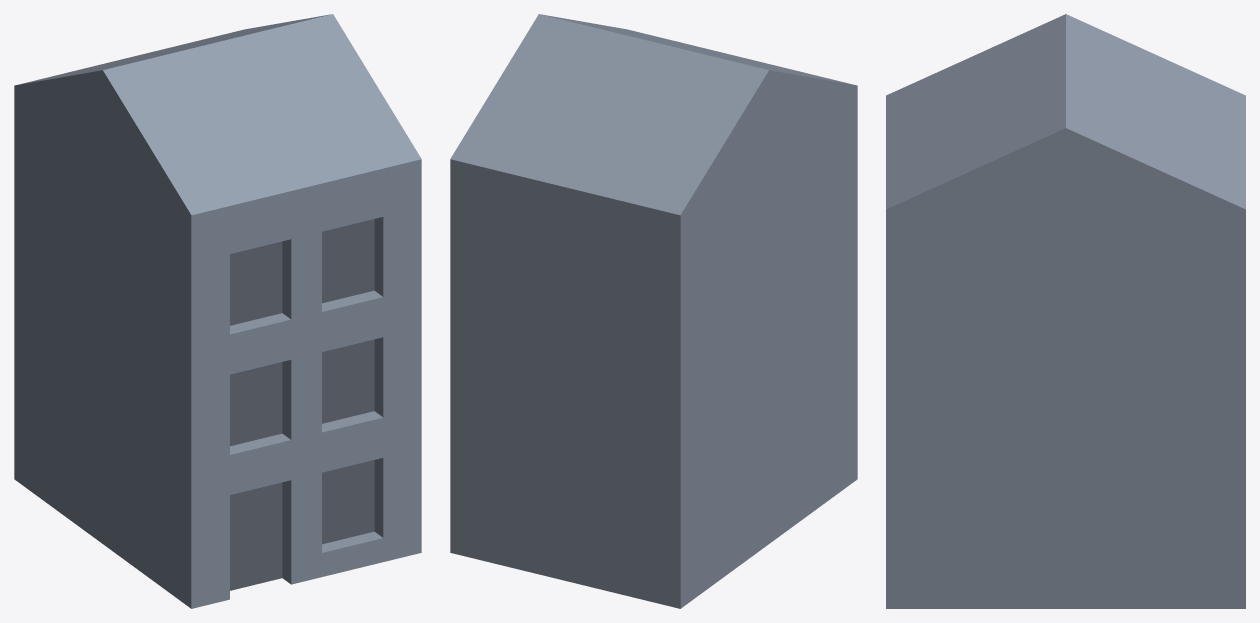
The model's file is binakapanacak1.gltf.
3 views of the same model, side by side, from view 1: azimuth 30°, elevation 25°; view 2: azimuth 150°, elevation 25°; view 3: azimuth 270°, elevation 25° (orthographic).
Visible parts, largest first — view 1: Building_021.010, Building_021.014, Building_021.015; view 2: Building_021.010; view 3: Building_021.010.
Boxes of the visible parts, <box> form: Building_021.010: <box>14,14,421,608</box>; Building_021.014: <box>230,219,374,544</box>; Building_021.015: <box>230,482,282,590</box>; Building_021.010: <box>450,14,857,608</box>; Building_021.010: <box>886,14,1245,608</box>.
Bounding box in the file's own units: 0.0326 × 0.0641 × 0.0435.
